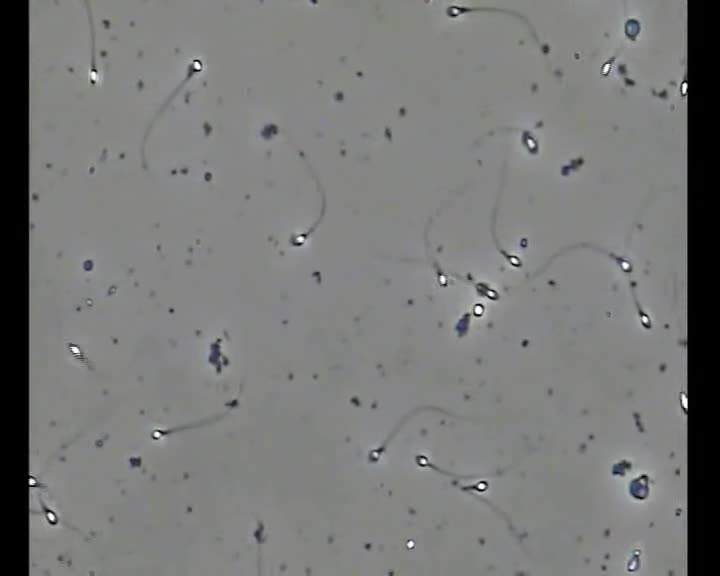spermhead: (629, 474, 649, 500), (610, 253, 632, 273), (475, 281, 498, 300), (521, 130, 538, 153), (624, 17, 640, 41), (455, 312, 471, 336), (625, 549, 640, 573), (611, 459, 631, 476), (502, 251, 522, 267), (446, 5, 470, 18), (43, 505, 58, 525), (467, 479, 488, 493), (67, 343, 84, 359), (188, 58, 204, 74), (88, 65, 100, 86), (601, 57, 614, 76), (253, 521, 264, 543), (368, 446, 383, 462), (290, 232, 307, 246), (151, 428, 168, 441), (639, 311, 652, 328), (415, 454, 430, 468), (436, 270, 448, 286), (472, 302, 484, 317), (680, 391, 687, 413), (28, 473, 38, 487), (224, 399, 238, 409), (680, 76, 686, 96), (407, 538, 415, 549)
